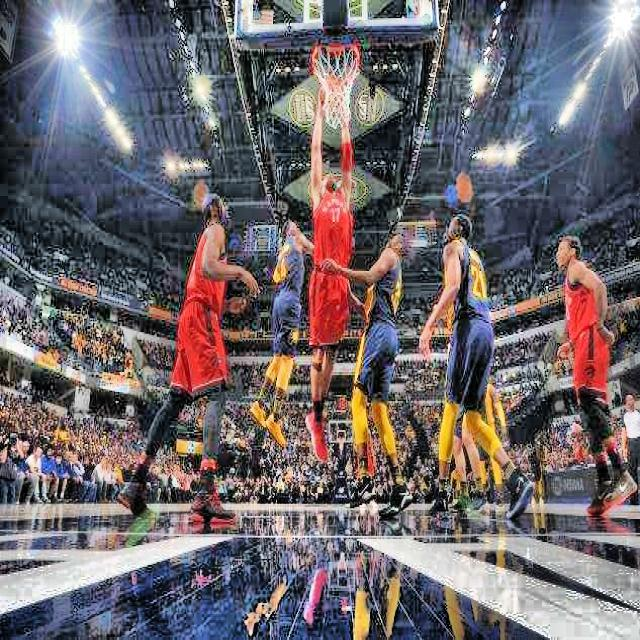rim: (310, 44, 360, 127)
